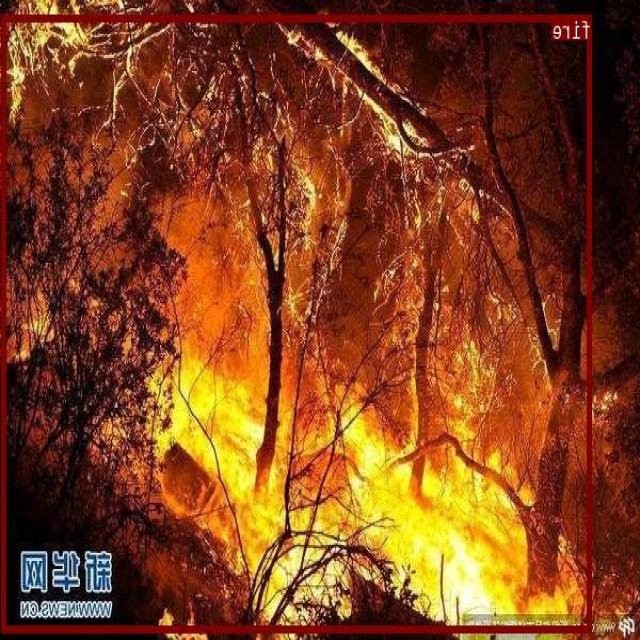fire: (3, 13, 593, 631)
